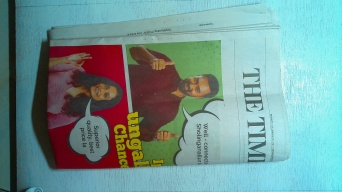p: (45, 7, 289, 173)
